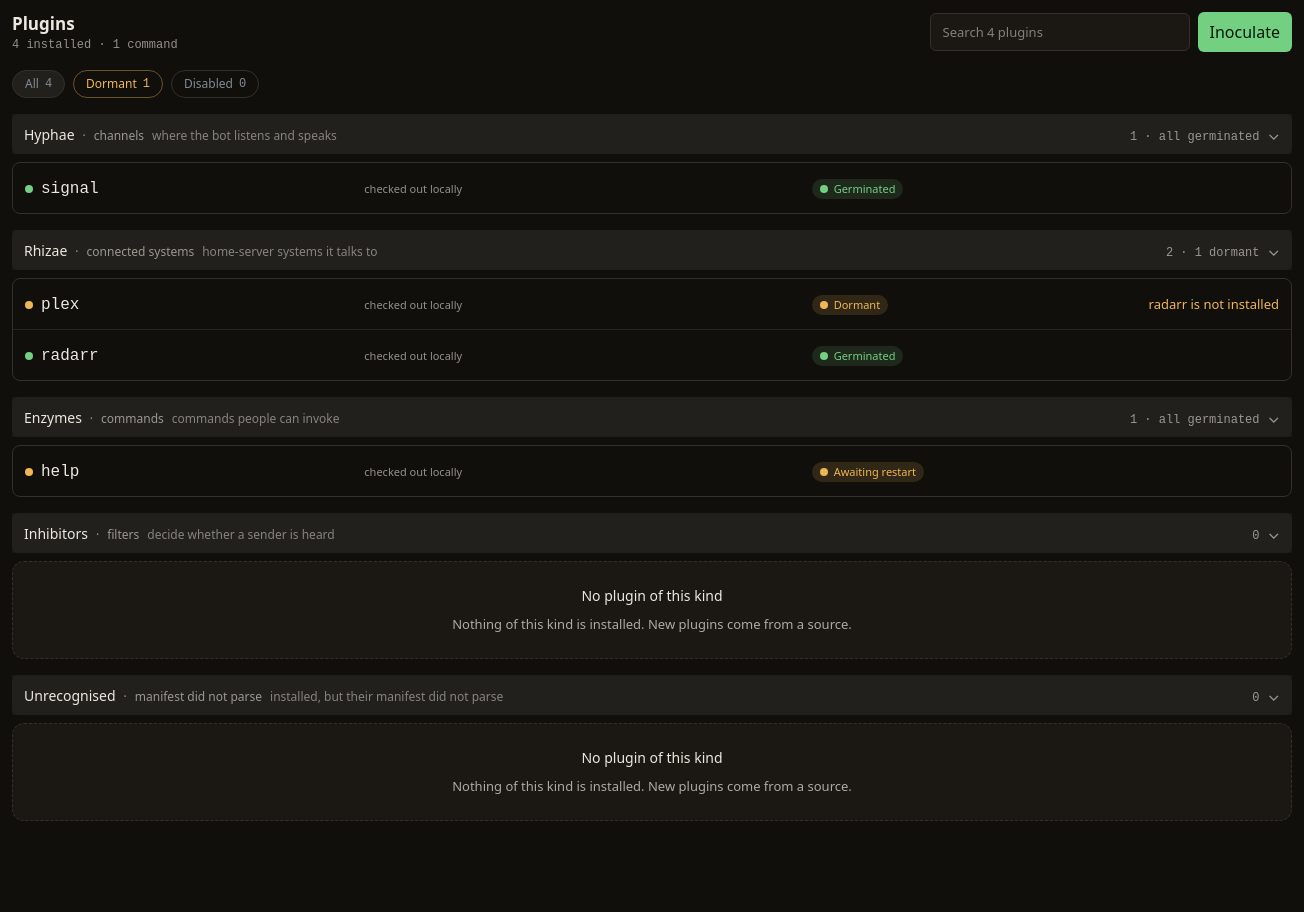
the kind group header › collapses a group without dropping its header
Click the button that starts with "Rhizae": (46, 250) [12,230,1292,270]
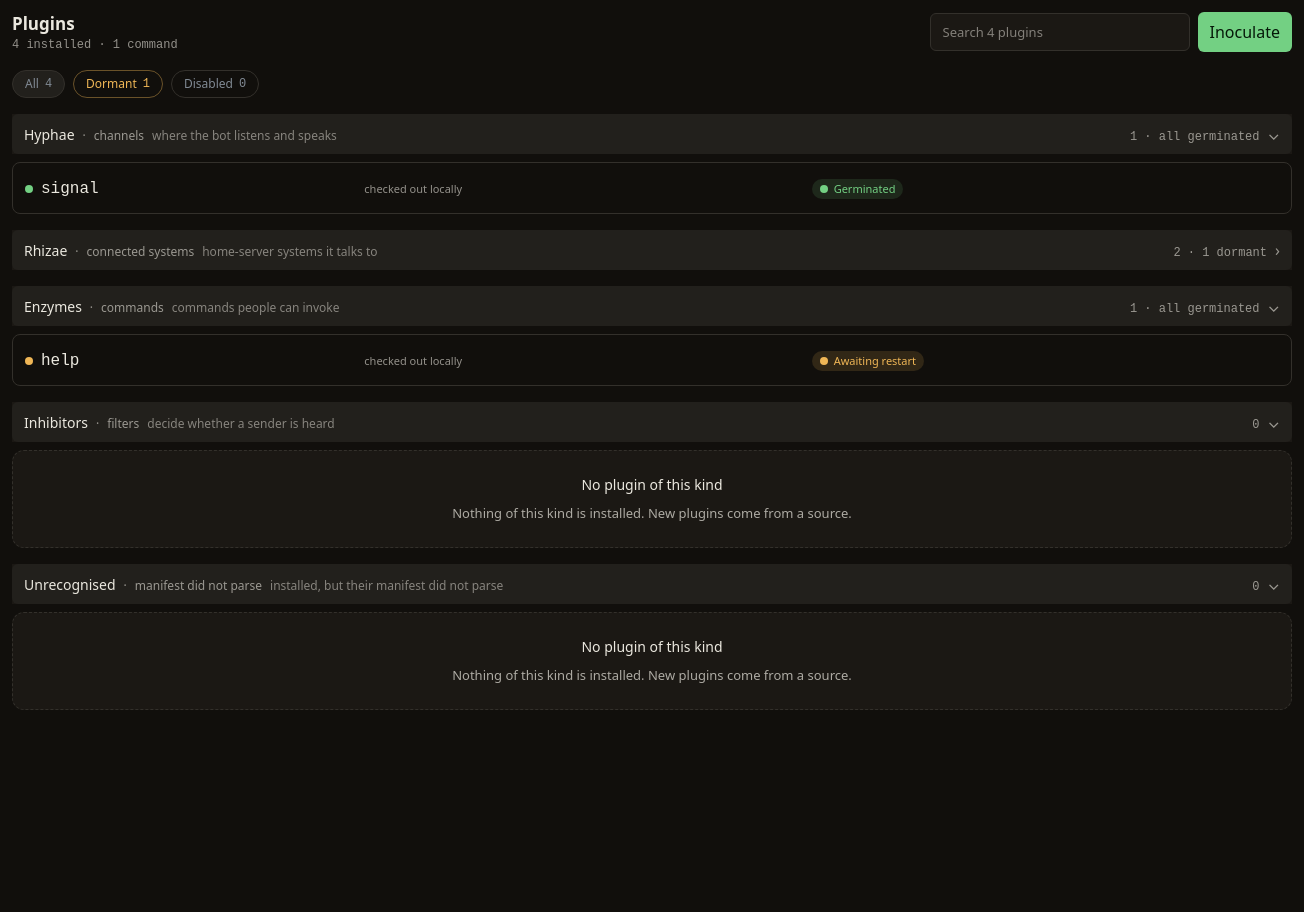
Check: the text "Rhizae" is shown, box [24,241,67,261]
Check: no the list item "plex checked out locally Dormant radarr is not installed" are shown
